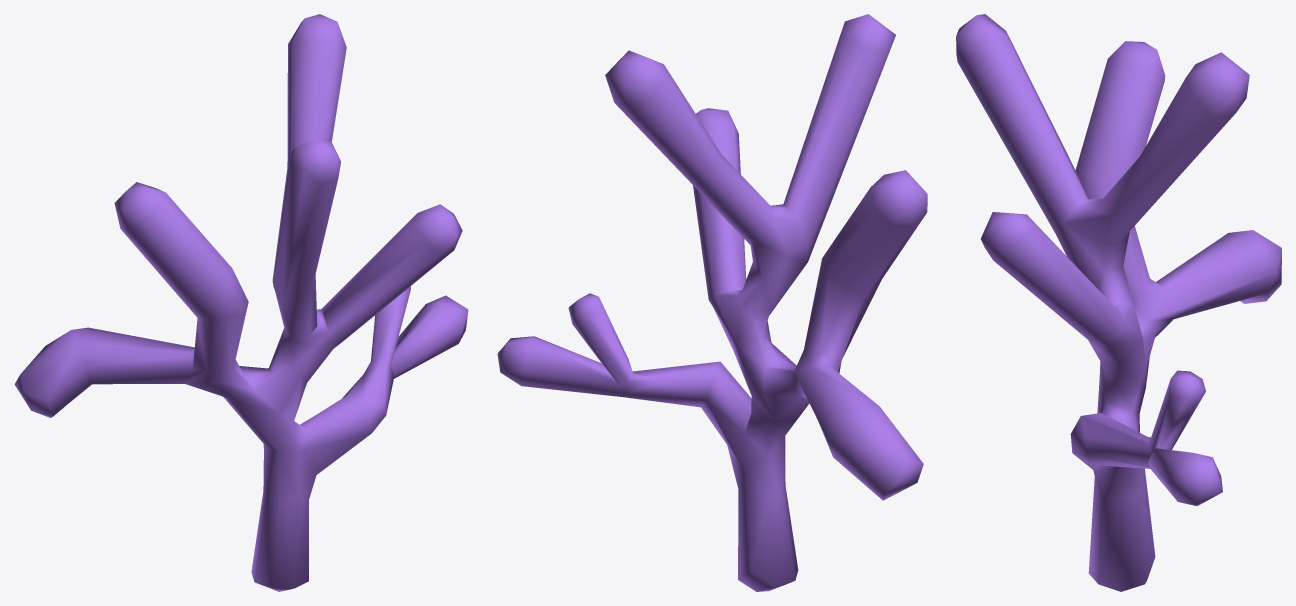
File: D_CoralReef.114.glb
3 views of the same model, side by side, from view 1: azimuth 30°, elevation 25°; view 2: azimuth 150°, elevation 25°; view 3: azimuth 270°, elevation 25° (orthographic). The views are drawn at different scales.
Parts seen in each view (by area): view 1: D_CoralReef.114; view 2: D_CoralReef.114; view 3: D_CoralReef.114.
Boxes of the visible parts, x1,y1,x2,y2 form: D_CoralReef.114: [14, 14, 468, 591]; D_CoralReef.114: [497, 14, 927, 591]; D_CoralReef.114: [956, 14, 1281, 591].
Size of the model in its own units: 0.5952 by 0.7064 by 0.3629.
1 material, 1 textured.
